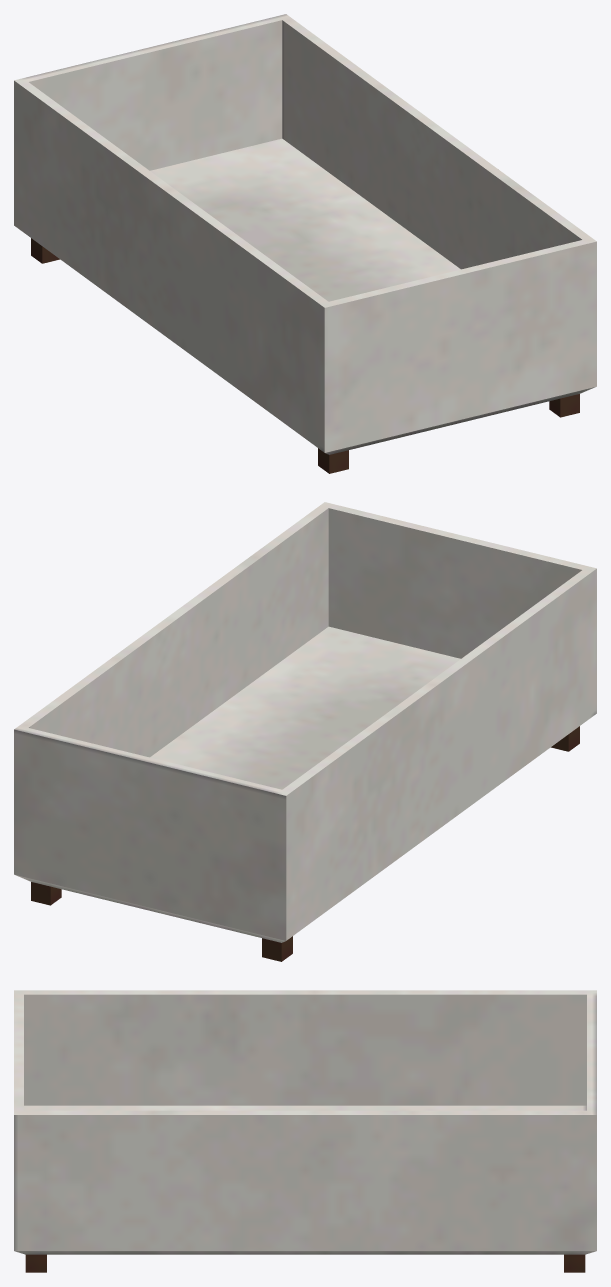
File: bathtub.fbx
3 renders of one model, top to bottom at view 1: azimuth 30°, elevation 25°; view 2: azimuth 150°, elevation 25°; view 3: azimuth 270°, elevation 25°, orthographic. The views are drawn at different scales.
Parts seen in each view (by area): view 1: Bathtub; view 2: Bathtub; view 3: Bathtub.
Boxes of the visible parts, bbox=[...] form: Bathtub: bbox=[14, 14, 596, 473]; Bathtub: bbox=[14, 502, 596, 961]; Bathtub: bbox=[14, 990, 596, 1272].
Size of the model in its own units: 1.51 by 2.99 by 0.9209.
Materials: 2 (2 with a texture image).
